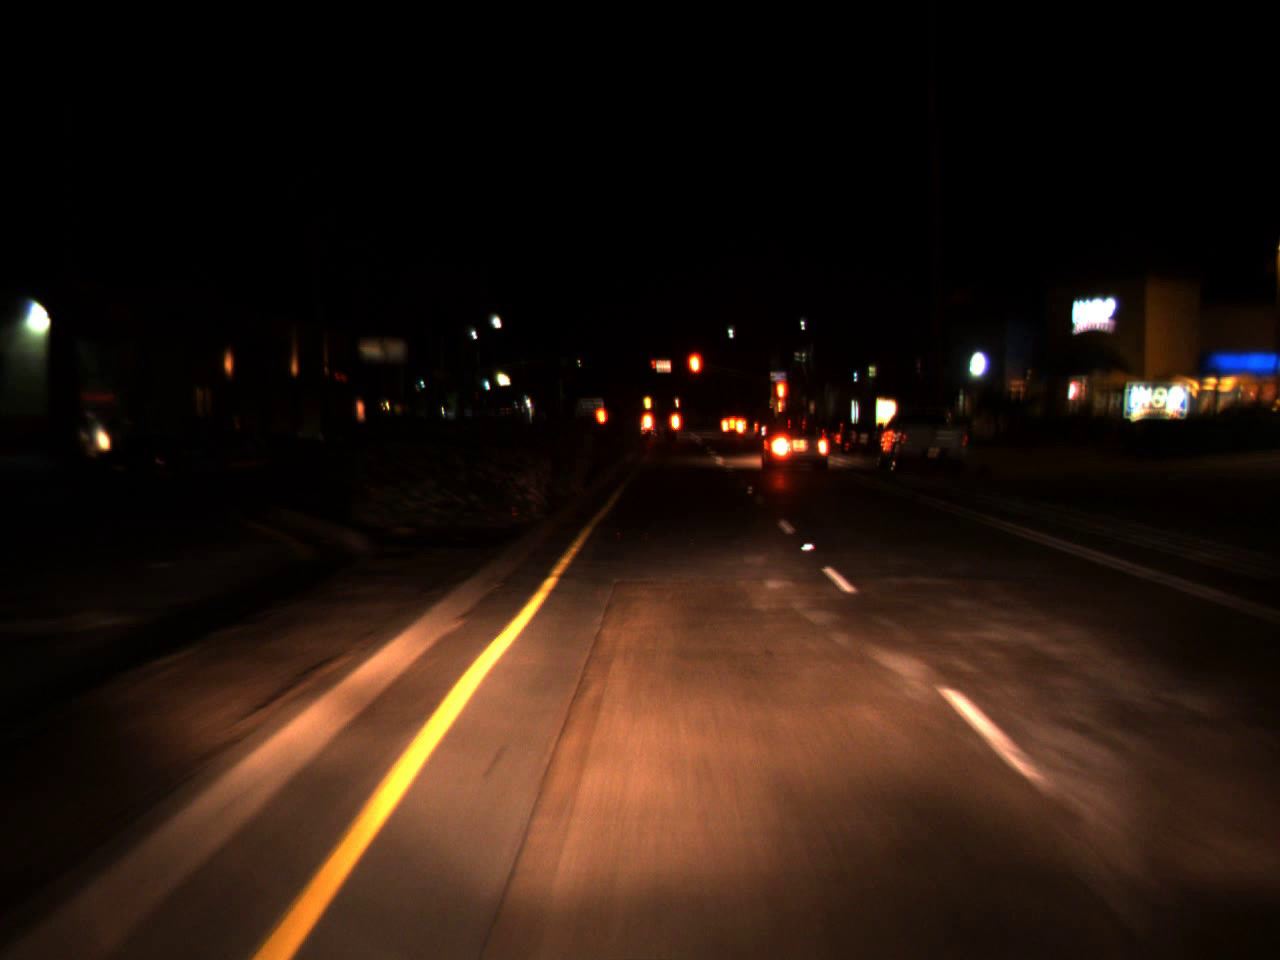stop: (769, 376, 790, 421), (685, 349, 703, 397), (649, 358, 656, 371)
